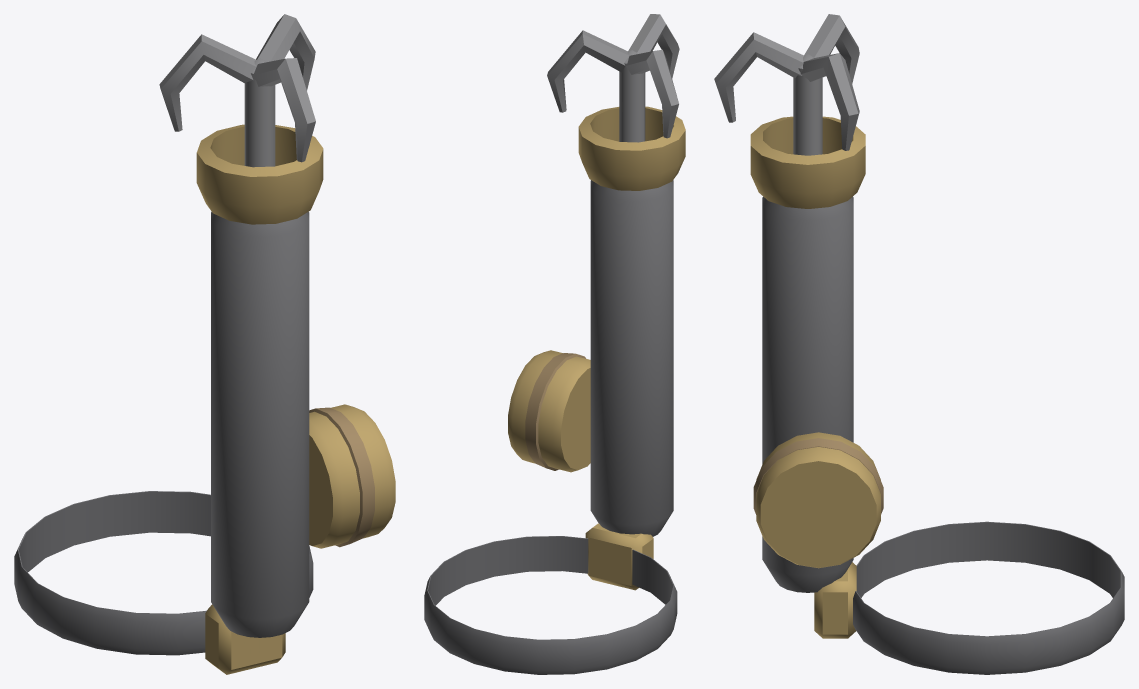
File: Kit_Active_Grapple.glb
3 views of the same model, side by side, from view 1: azimuth 30°, elevation 25°; view 2: azimuth 150°, elevation 25°; view 3: azimuth 270°, elevation 25° (orthographic). The views are drawn at different scales.
Parts seen in each view (by area): view 1: Kit_Active_Grapple; view 2: Kit_Active_Grapple; view 3: Kit_Active_Grapple.
Part boxes in pixels (bbox=[...]): Kit_Active_Grapple: bbox=[14, 14, 395, 674]; Kit_Active_Grapple: bbox=[424, 14, 685, 674]; Kit_Active_Grapple: bbox=[714, 14, 1124, 674].
Bounding box in the file's own units: 0.132 × 0.3106 × 0.1949.
